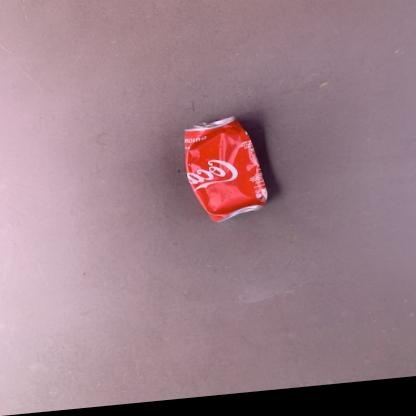trash: (184, 116, 266, 221)
